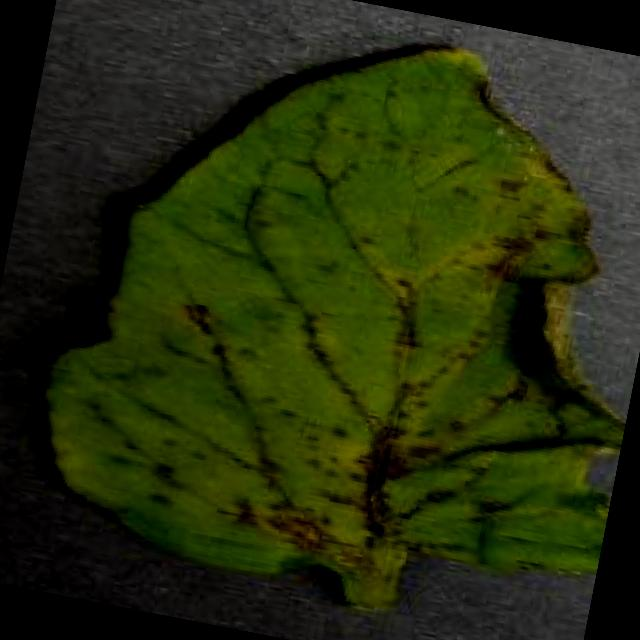bacterial spot: (41, 43, 626, 610)
